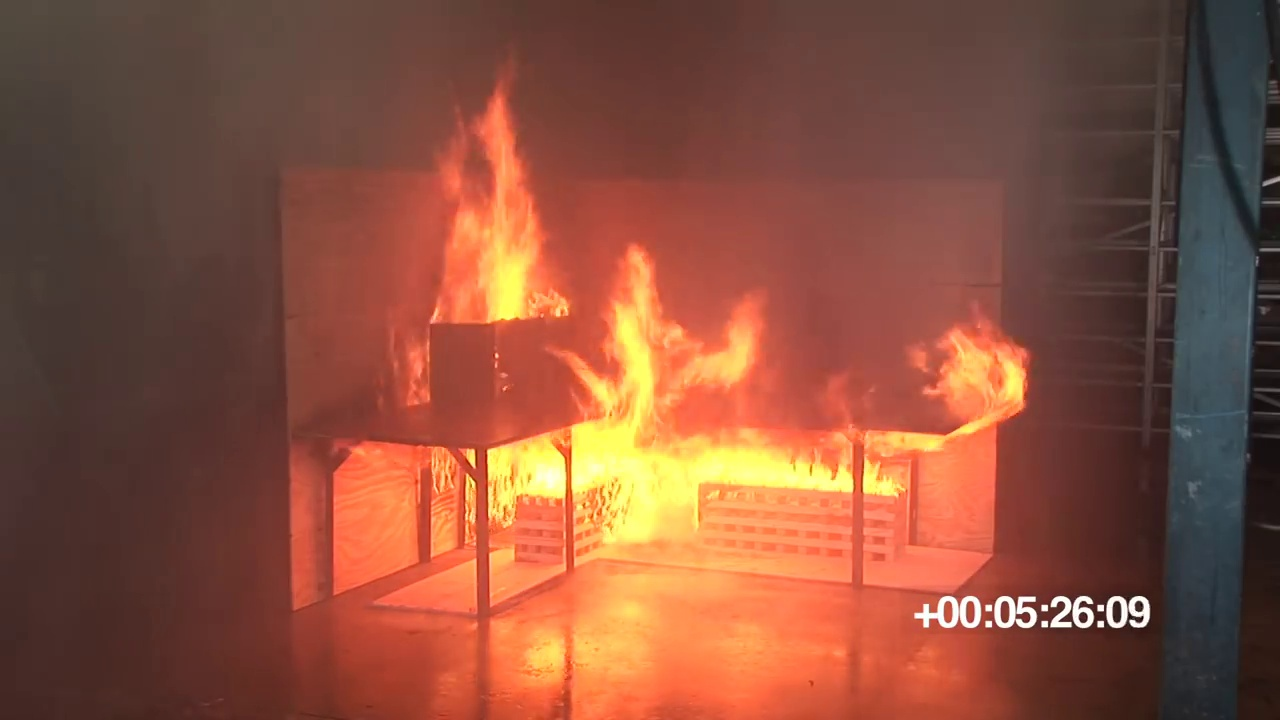fire: (470, 440, 896, 524), (428, 99, 551, 319), (604, 249, 662, 419), (935, 327, 1026, 422), (706, 293, 780, 389)
